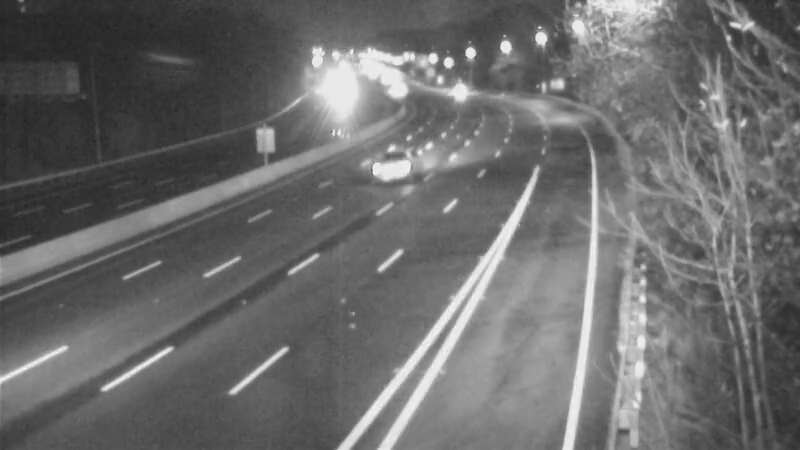vehicle: (363, 127, 443, 207), (427, 70, 477, 120)
